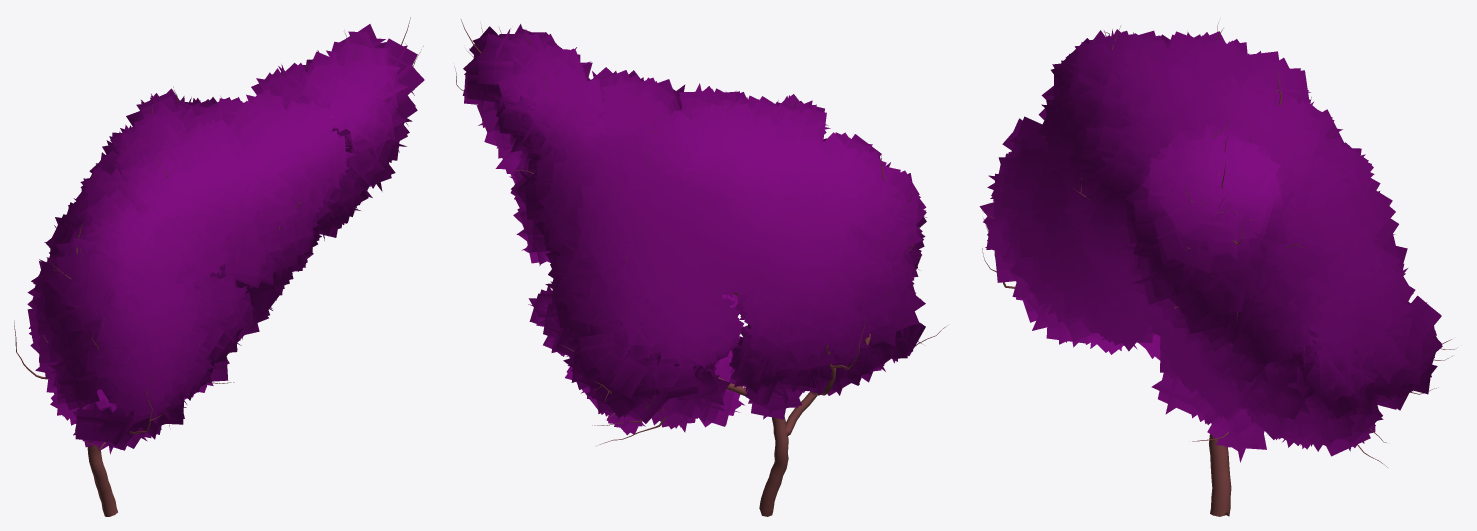
The model's file is Tree5.fbx.
The picture shows the model from 3 angles, left to right: view 1: azimuth 30°, elevation 25°; view 2: azimuth 150°, elevation 25°; view 3: azimuth 270°, elevation 25°; orthographic projection. The views are drawn at different scales.
Visible parts, largest first — view 1: Tree:Trunk1; view 2: Tree:Trunk1; view 3: Tree:Trunk1.
Part boxes in pixels (x1=…): Tree:Trunk1: x1=14, y1=17, x2=424, y2=516; Tree:Trunk1: x1=454, y1=19, x2=947, y2=516; Tree:Trunk1: x1=979, y1=22, x2=1456, y2=516.
Bounding box in the file's own units: 693 × 690 × 547.
